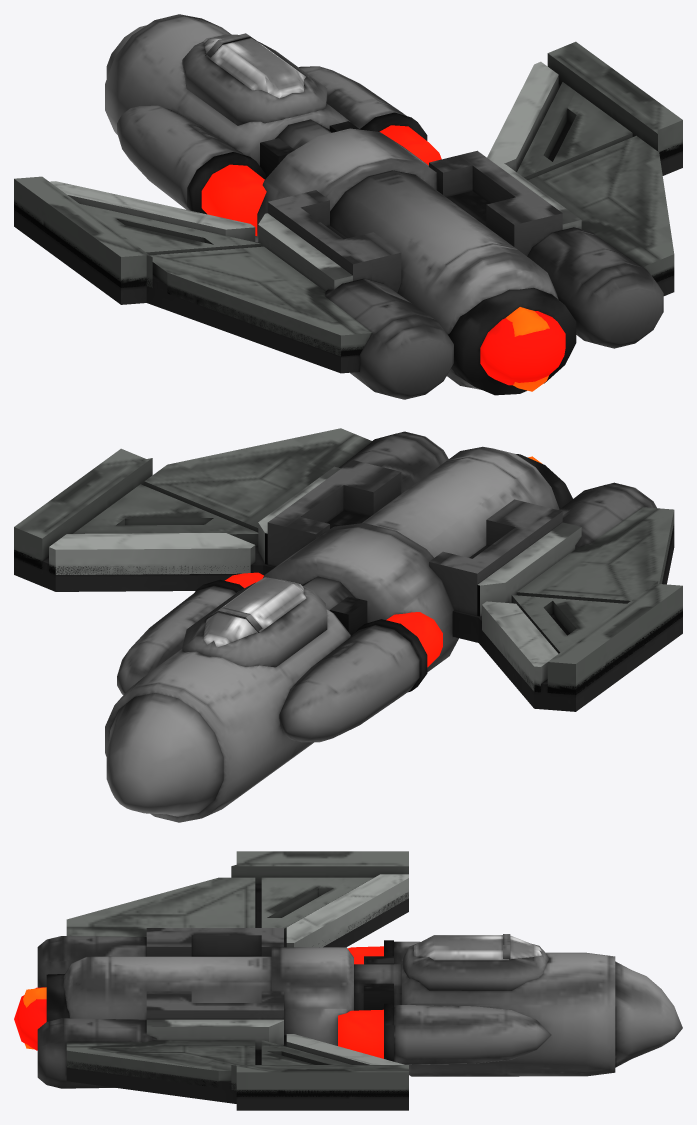
Rendered from ship-microcorp-stalker.glb.
3 views of the same model, one above another, from view 1: azimuth 30°, elevation 25°; view 2: azimuth 150°, elevation 25°; view 3: azimuth 270°, elevation 25° (orthographic). The views are drawn at different scales.
Visible parts, largest first — view 1: ship-microcorp-stalker; view 2: ship-microcorp-stalker; view 3: ship-microcorp-stalker.
Part boxes in pixels (box(x1,y1,x2,y2)): ship-microcorp-stalker: box(14, 14, 682, 399); ship-microcorp-stalker: box(14, 428, 682, 822); ship-microcorp-stalker: box(14, 851, 682, 1110).
Size of the model in its own units: 1.74 by 0.4882 by 2.23.
Materials: 10 (10 with a texture image).
